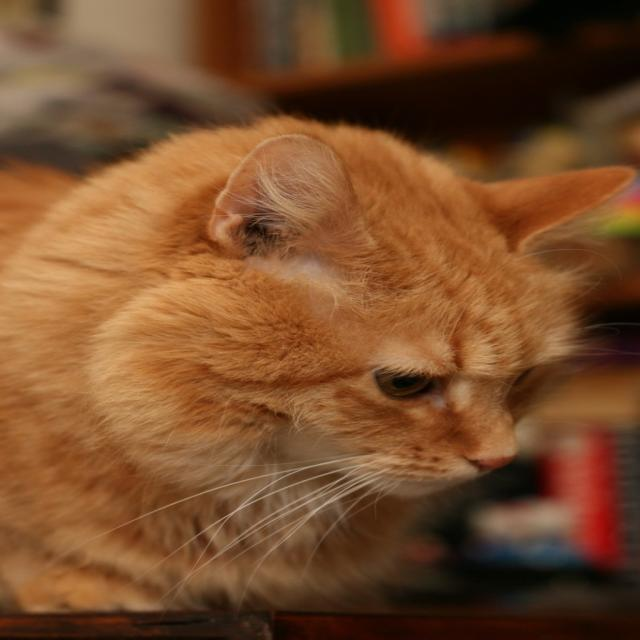Cat: (0, 109, 629, 613)
